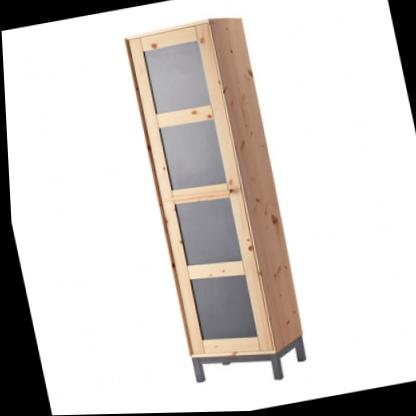Cabinet: (114, 8, 317, 402)
